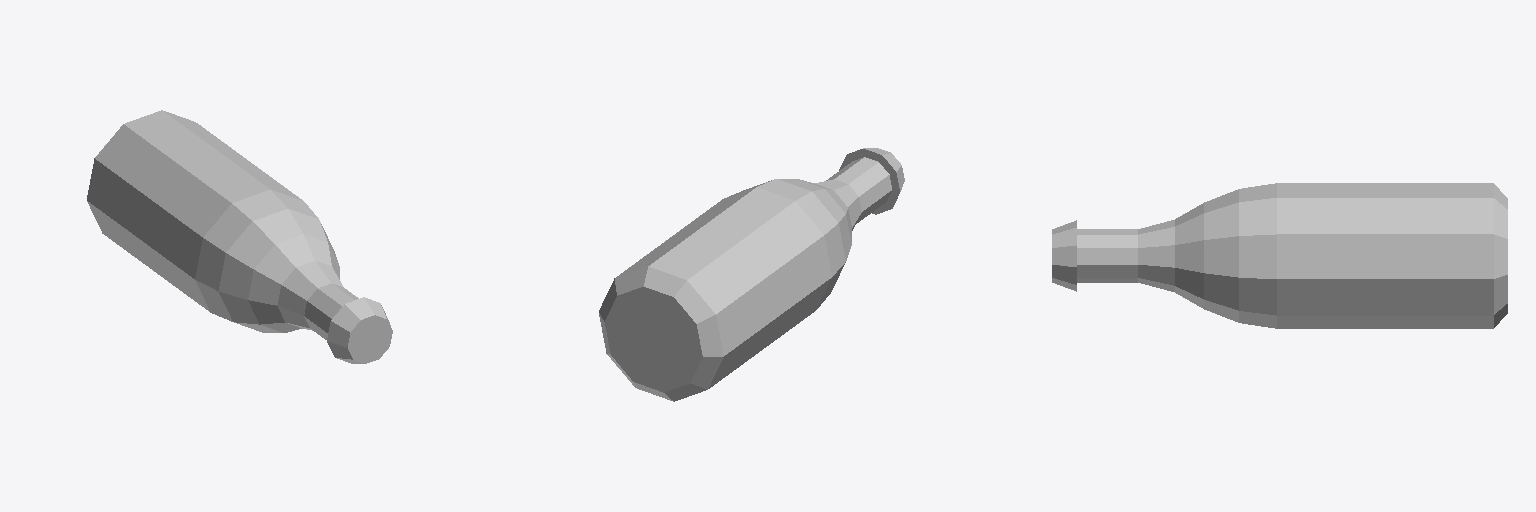
Rendered from Environment_Bottle.obj.
3 renders of one model, left to right at view 1: azimuth 30°, elevation 25°; view 2: azimuth 150°, elevation 25°; view 3: azimuth 270°, elevation 25°, orthographic.
Parts seen in each view (by area): view 1: Environment_Bottle_Cube.205; view 2: Environment_Bottle_Cube.205; view 3: Environment_Bottle_Cube.205.
Part boxes in pixels (bbox=[...]): Environment_Bottle_Cube.205: bbox=[87, 110, 392, 363]; Environment_Bottle_Cube.205: bbox=[599, 148, 904, 401]; Environment_Bottle_Cube.205: bbox=[1052, 183, 1507, 328].
Size of the model in its own units: 0.3086 by 0.3038 by 0.974.